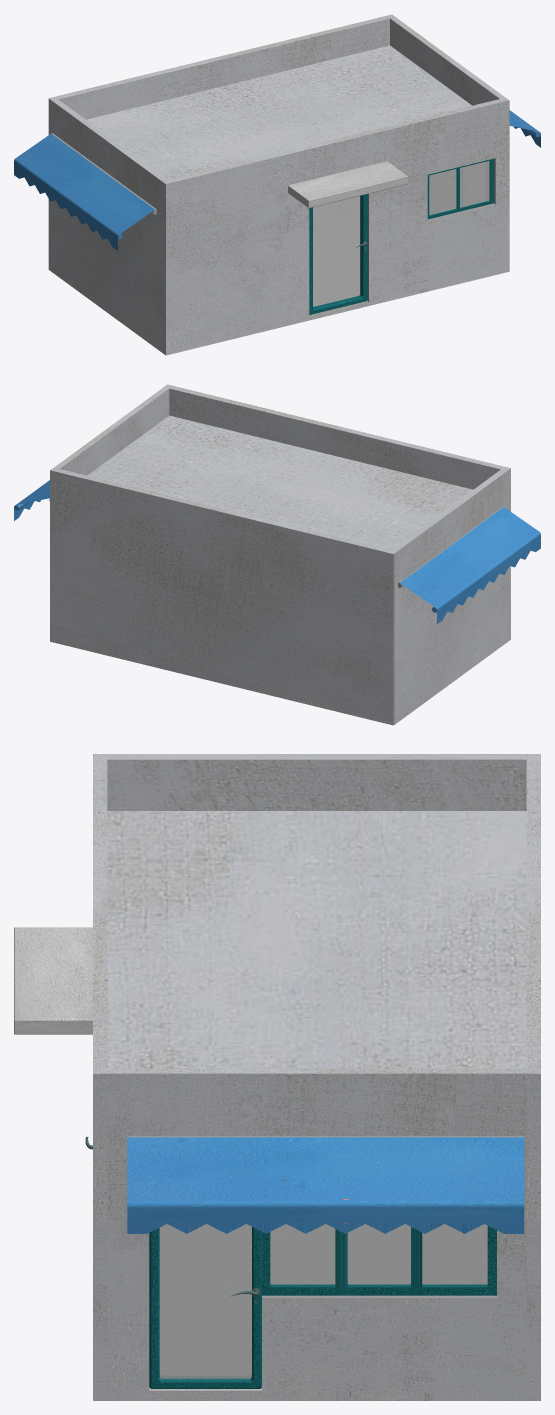
File: 门卫楼.fbx
3 renders of one model, top to bottom at view 1: azimuth 30°, elevation 25°; view 2: azimuth 150°, elevation 25°; view 3: azimuth 270°, elevation 25°, orthographic. The views are drawn at different scales.
Parts seen in each view (by area): view 1: pCube26, pCube19, pCube14, pCube17, polySurface3, pCube20, pCube29, pCube40, pCube2, polySurface4, pCube43; view 2: pCube17, pCube19, pCube14, pCube26, polySurface3, pCube29, polySurface4; view 3: pCube19, pCube29, polySurface2, pCube14, pCube38, pCube27, polySurface1, pCube26, pCube17, pCube2, pCube46.
Part boxes in pixels (x1,y1,x2,y2): pCube26: (163, 99, 509, 355); pCube19: (86, 45, 471, 179); pCube14: (49, 99, 169, 353); pCube17: (48, 14, 392, 269); polySurface3: (15, 133, 156, 234); pCube20: (313, 196, 360, 306); pCube29: (387, 15, 506, 105); pCube40: (427, 158, 493, 219); pCube2: (288, 161, 408, 208); polySurface4: (14, 158, 122, 250); pCube43: (309, 194, 367, 314); pCube17: (50, 469, 396, 725); pCube19: (87, 415, 472, 549); pCube14: (390, 469, 509, 724); pCube26: (166, 384, 510, 640); polySurface3: (398, 506, 539, 607); pCube29: (51, 386, 170, 475); polySurface4: (432, 532, 540, 624); pCube19: (107, 811, 526, 1068); pCube29: (100, 1068, 537, 1400); polySurface2: (127, 1136, 524, 1200); pCube14: (100, 754, 526, 810); pCube38: (262, 1224, 496, 1295); pCube27: (149, 1224, 261, 1388); polySurface1: (127, 1201, 524, 1233); pCube26: (93, 754, 107, 1400); pCube17: (526, 754, 540, 1400); pCube2: (14, 927, 92, 1034); pCube46: (149, 1227, 261, 1388).
Bounding box in the file's own units: 19.18 × 7.43 × 10.85.
